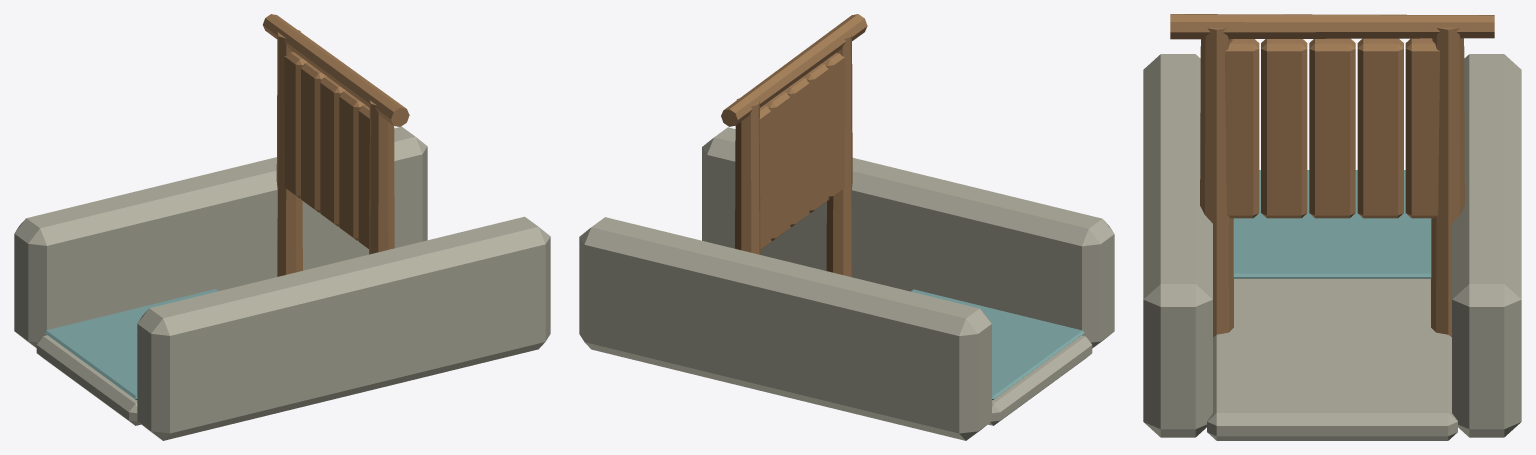
3 views of the same model, side by side, from view 1: azimuth 30°, elevation 25°; view 2: azimuth 150°, elevation 25°; view 3: azimuth 270°, elevation 25° (orthographic). The views are drawn at different scales.
Parts seen in each view (by area): view 1: CE-021 Raised tidal brine intake gate batched; view 2: CE-021 Raised tidal brine intake gate batched; view 3: CE-021 Raised tidal brine intake gate batched.
Boxes of the visible parts, x1=… form: CE-021 Raised tidal brine intake gate batched: x1=14, y1=14, x2=550, y2=440; CE-021 Raised tidal brine intake gate batched: x1=579, y1=14, x2=1114, y2=440; CE-021 Raised tidal brine intake gate batched: x1=1143, y1=14, x2=1521, y2=440.
Size of the model in its own units: 1.5 by 0.975 by 0.98.
